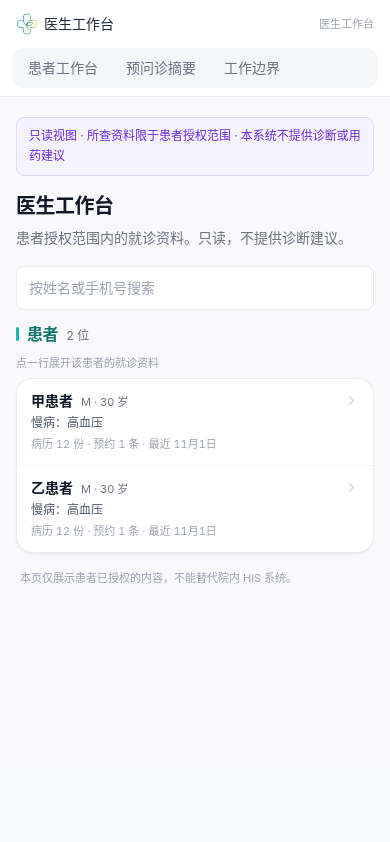
Test: 医生工作台：病历归属与口径 › 切到 B 后，A 后到的详情不会挂到 B 名下
Click the button "甲患者 M · 30 岁 慢病：高血压 病历 12 份 · 预约 1 条 · 最近 11月1日".
click(52, 400)  # box [17,379,373,465]
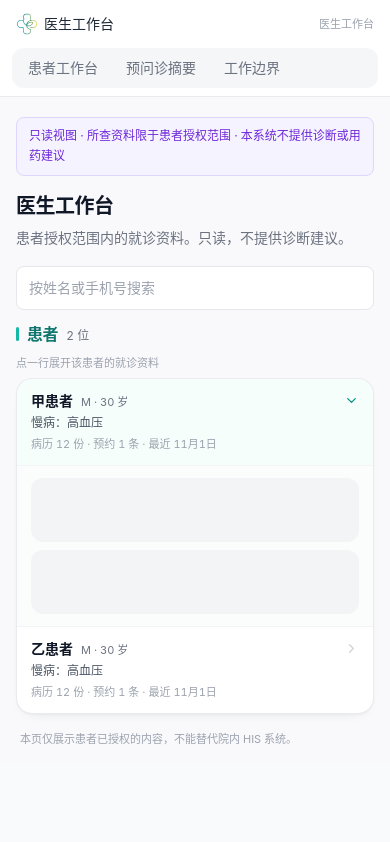
# A 还没回来就切走 —— effect 的 cleanup 必须让 A 的结果作废
Click the button "乙患者 M · 30 岁 慢病：高血压 病历 12 份 · 预约 1 条 · 最近 11月1日".
click(52, 648)  # box [17,627,373,713]
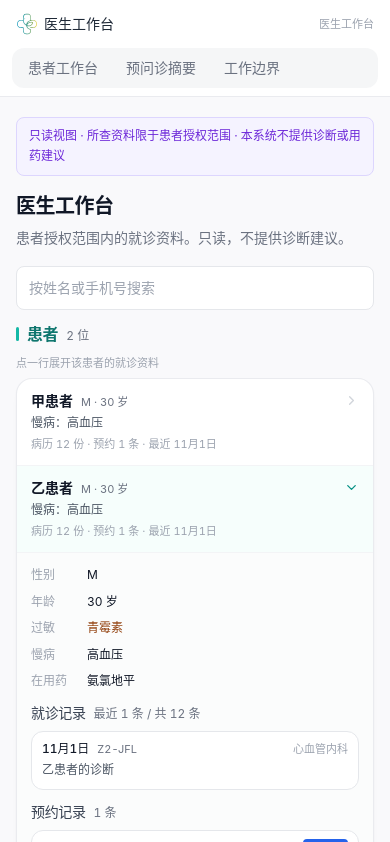
Expected: the text "乙患者的诊断" is shown, [42,762,114,777]
